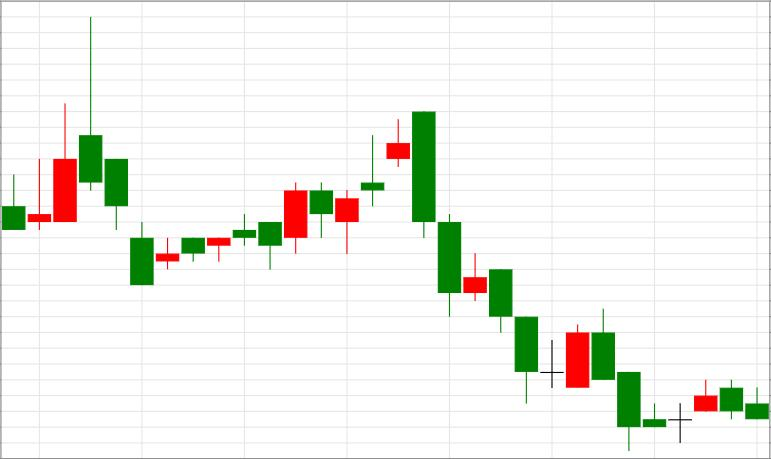bearish_engulfing_fall: (334, 112, 435, 254)
shooting_star_fall: (1, 17, 103, 230)
